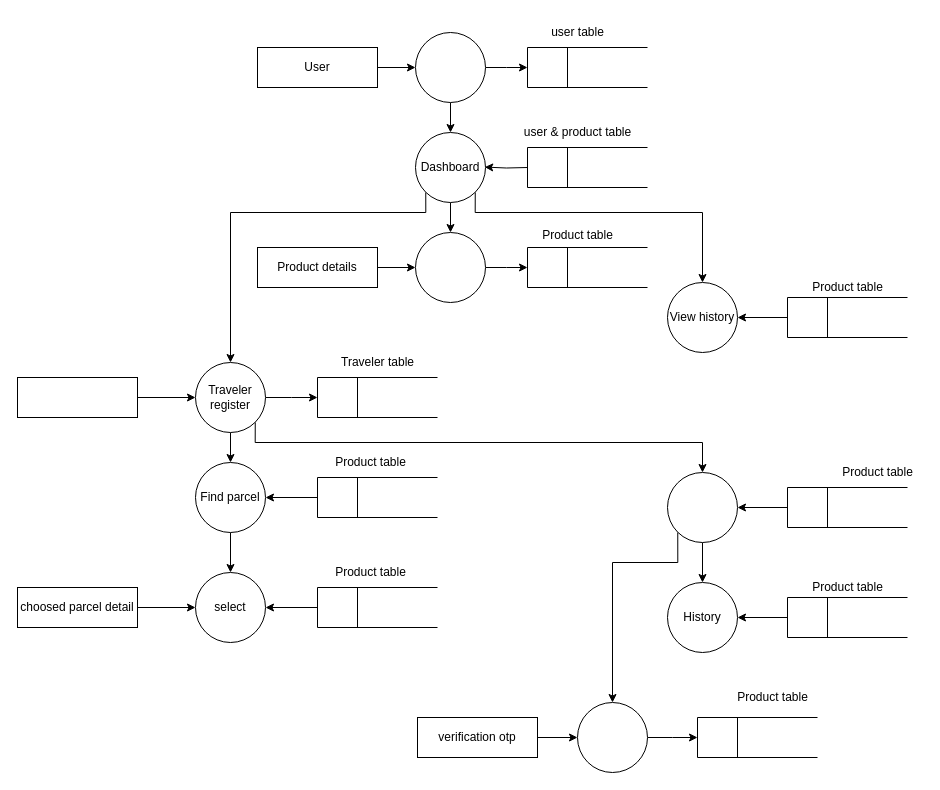
The diagram is 940 pixels wide and 790 high, and some of its shapes have lost their labels. The box of each missing label's shape, as (x1, y1, x2, y2) in pixels:
Add produce: (414, 232, 486, 302)
Current parcel: (666, 472, 738, 542)
Login: (414, 32, 486, 102)
OTP verfication: (576, 702, 648, 772)
Traveler detail: (16, 376, 138, 418)
